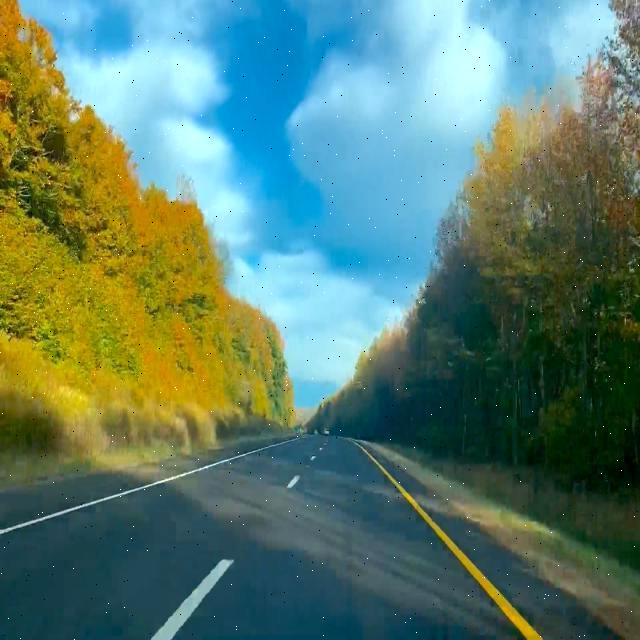lane: (353, 440, 544, 639), (1, 440, 289, 531), (152, 560, 233, 639)
road: (1, 437, 521, 639), (435, 512, 620, 639)
